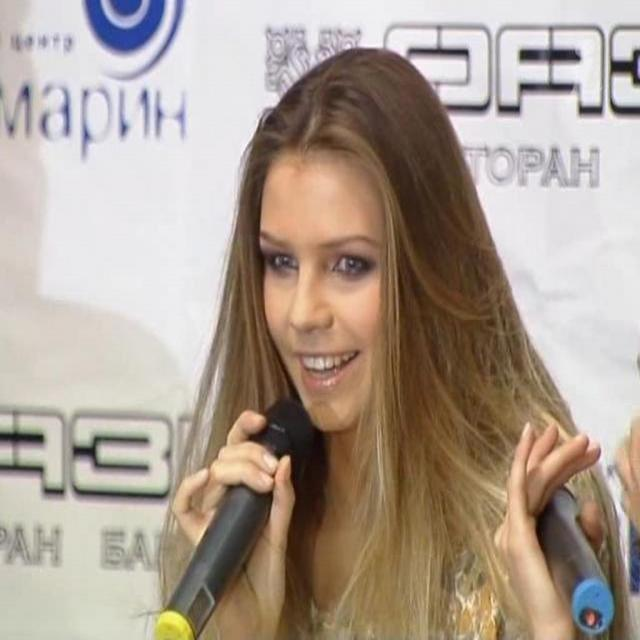nomask: (259, 160, 406, 432)
